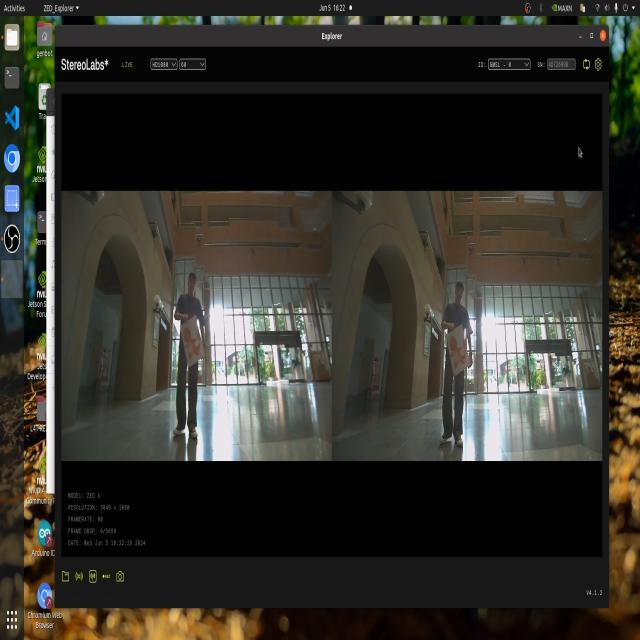red: (449, 333, 472, 376), (185, 325, 202, 371)
